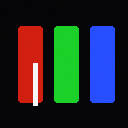4 line_v: (33, 63, 37, 105)
